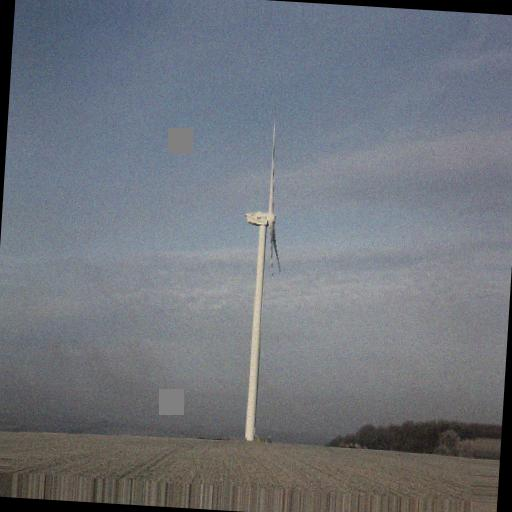wind turbine: (236, 122, 283, 440)
